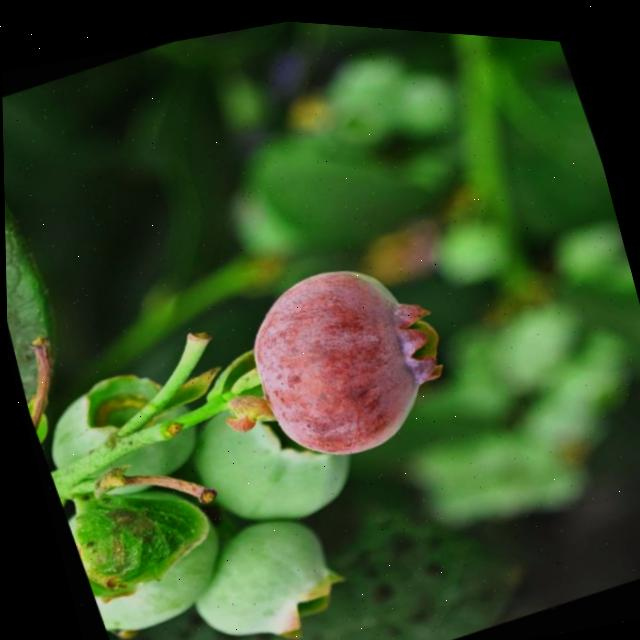Semi-RipeBlueBerry: (213, 225, 471, 489)
UnripeBlueBerry: (169, 361, 368, 554), (57, 467, 245, 640), (164, 489, 353, 640)
